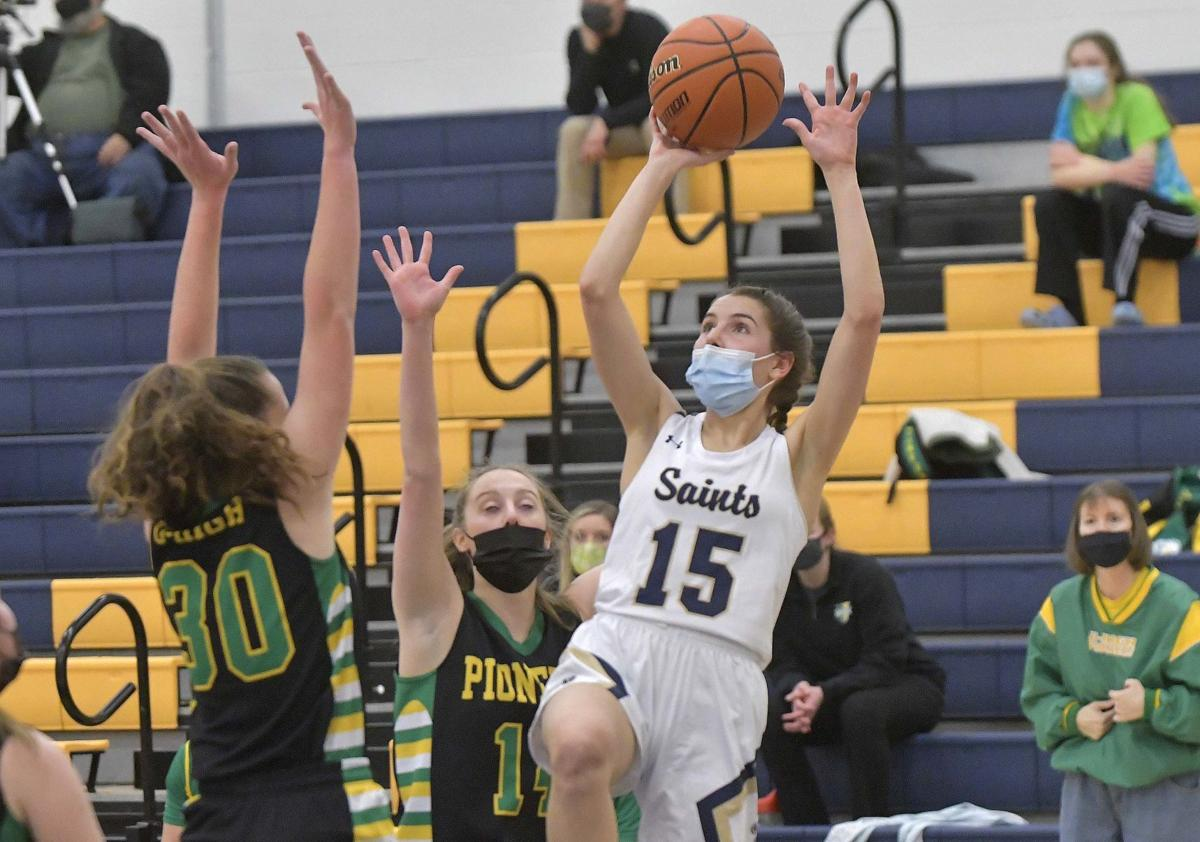with_incorrect_mask: (689, 295, 777, 417), (460, 474, 547, 574)
